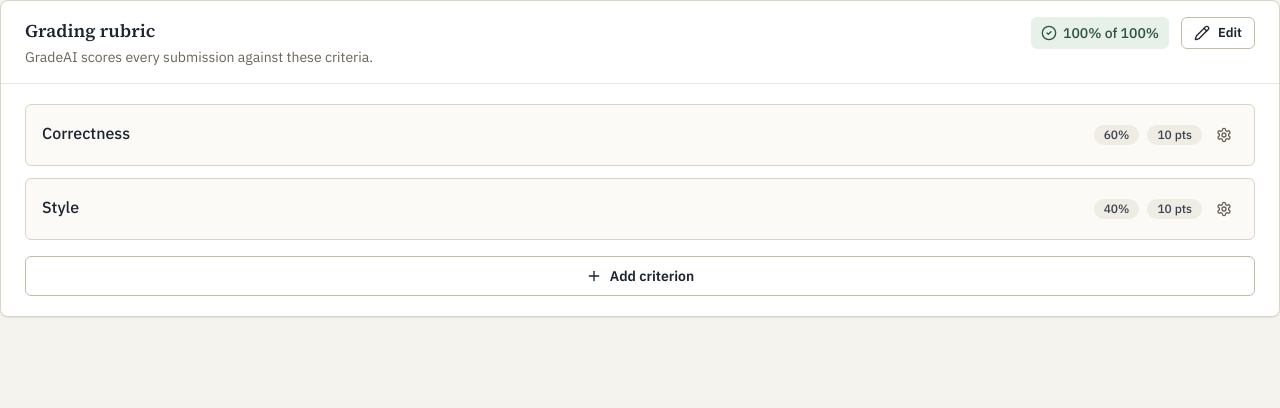
Test: RubricBuilder › enters edit mode and can remove a criterion from the draft
Click the button "Edit": (1218, 33) [1181,17,1255,49]
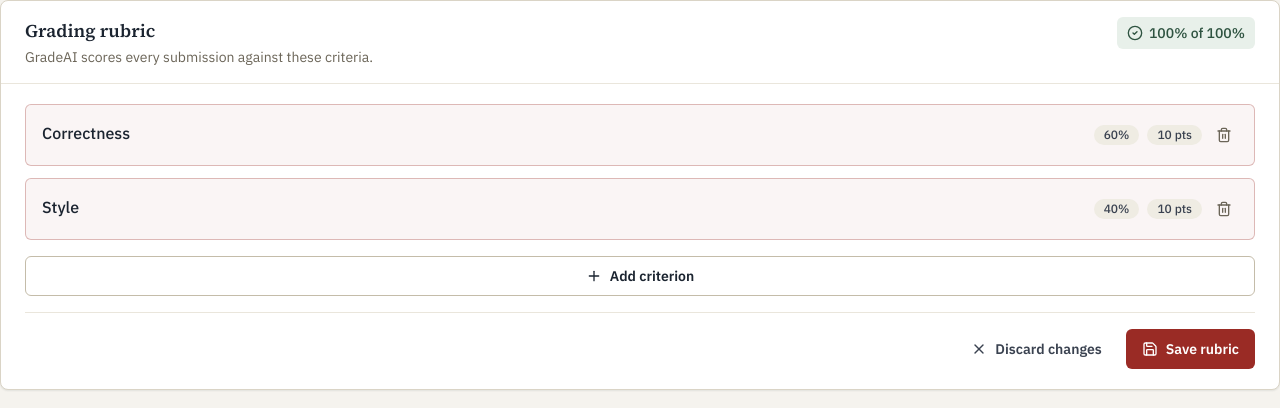
Draft now editable: each row exposes a remove control.
Click the button named "remove style": (1224, 209) [1210,195,1238,223]
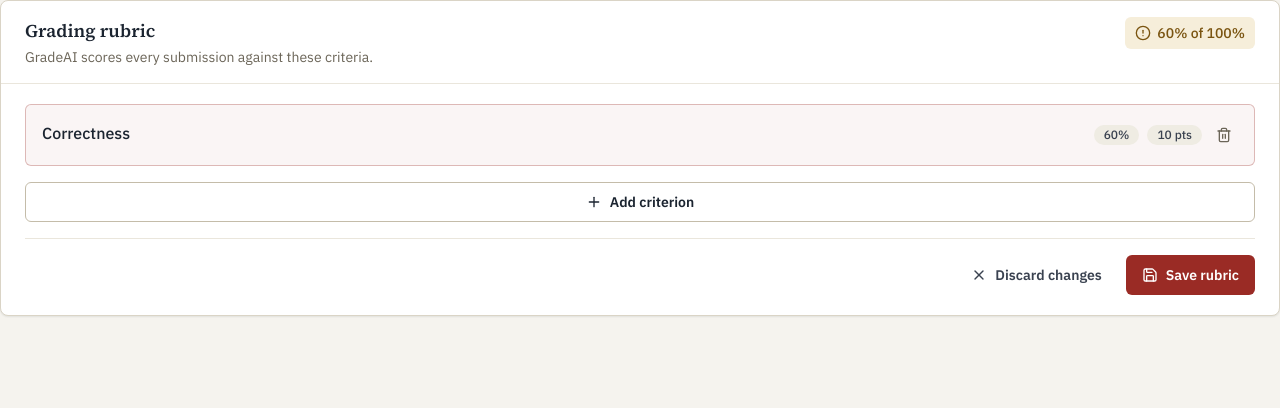
expect the heading "Style" is gone: met
expect the message reads "60% of 100%": met, box [1125,17,1255,49]
